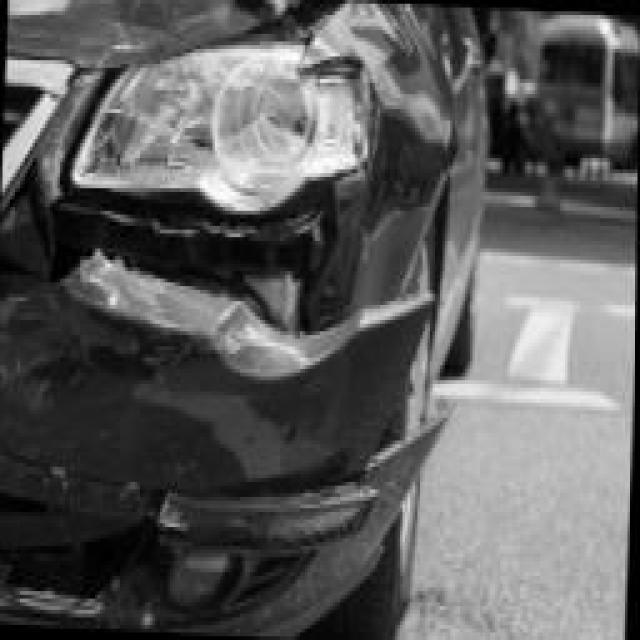Bonnet: (6, 0, 341, 70)
Bumper: (0, 211, 460, 640)
Fender: (292, 1, 473, 270)
Light: (61, 41, 383, 238)
